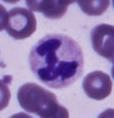N: (28, 34, 84, 88)
